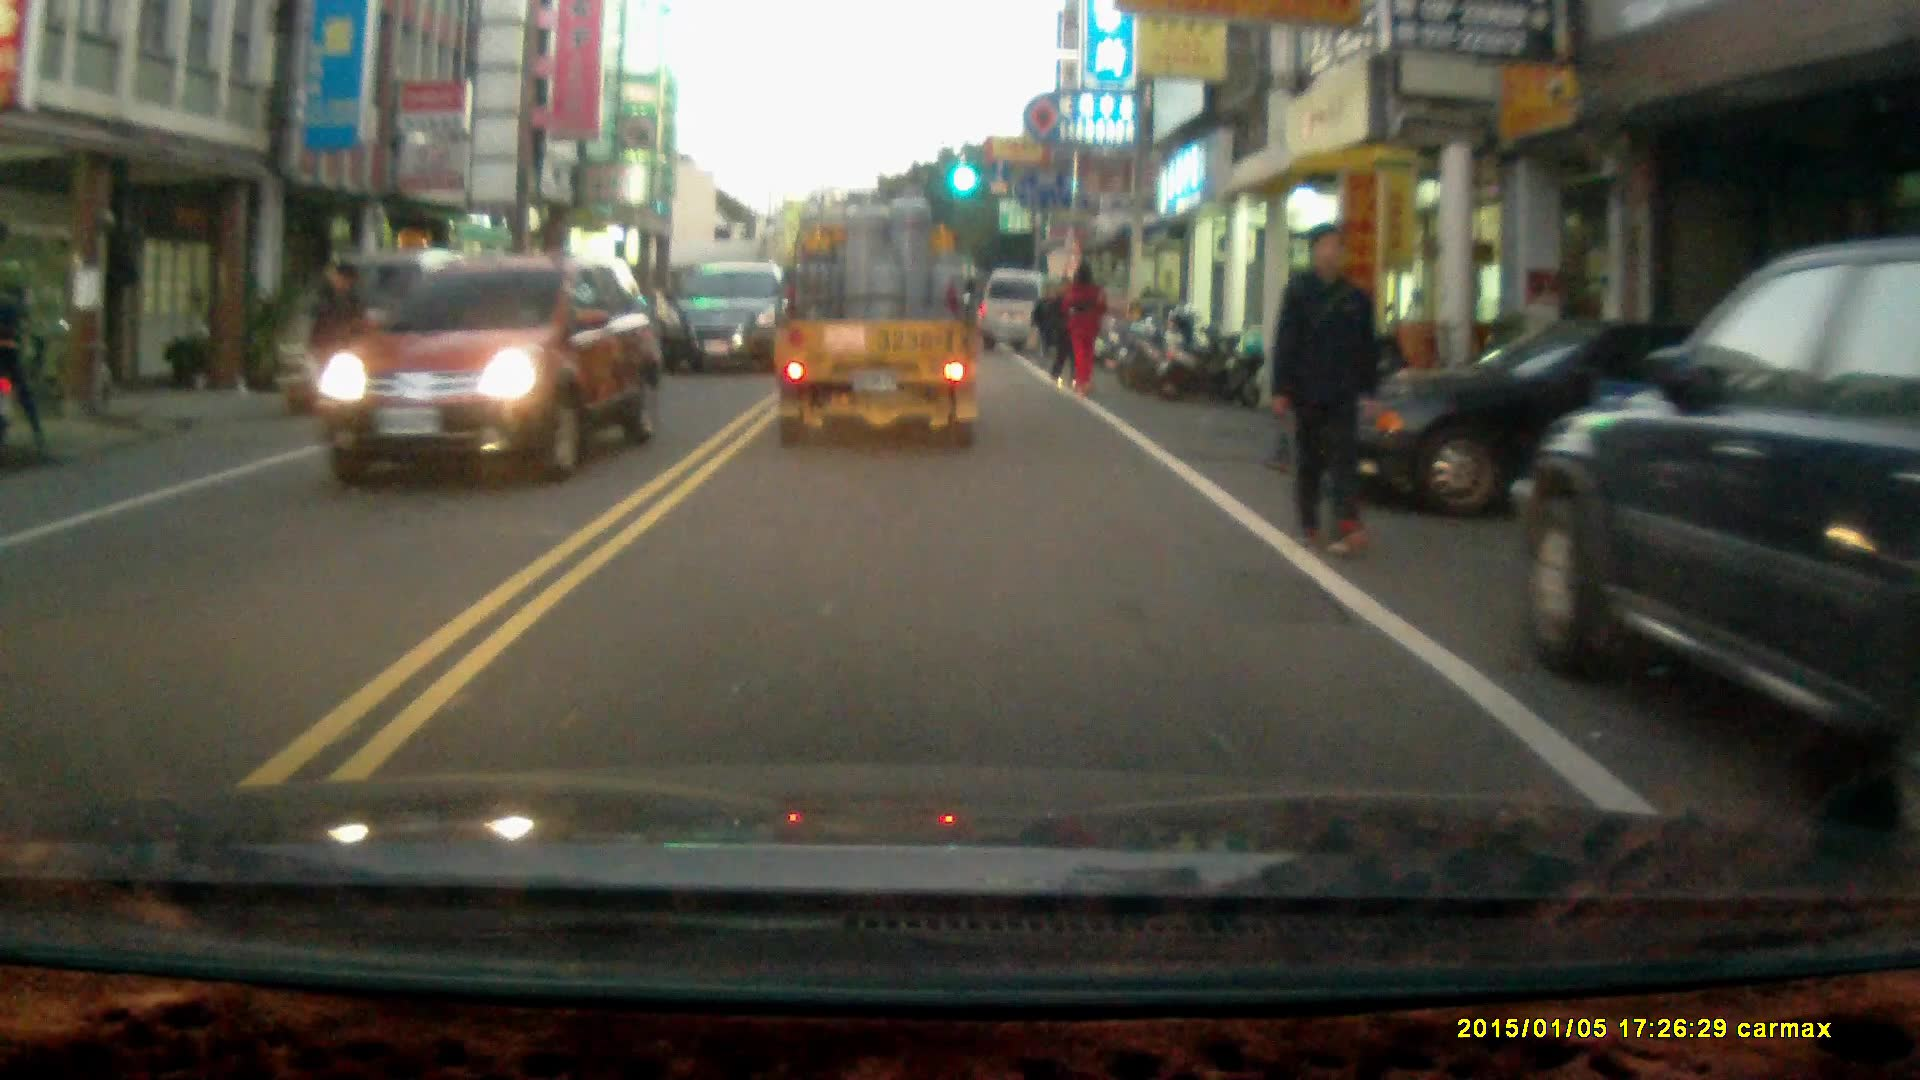pedestrian: (1268, 221, 1384, 561), (1, 250, 53, 471), (305, 261, 369, 420), (1064, 258, 1106, 395), (1037, 278, 1062, 363)
vehicle: (1516, 237, 1920, 834), (1344, 319, 1830, 526), (304, 259, 665, 490), (774, 205, 984, 478), (668, 265, 789, 383), (984, 274, 1064, 363)
